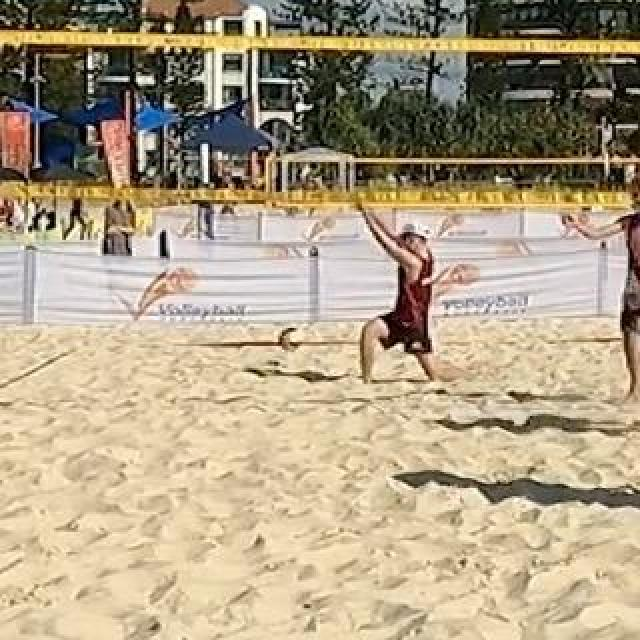volleyball: (278, 327, 304, 351)
